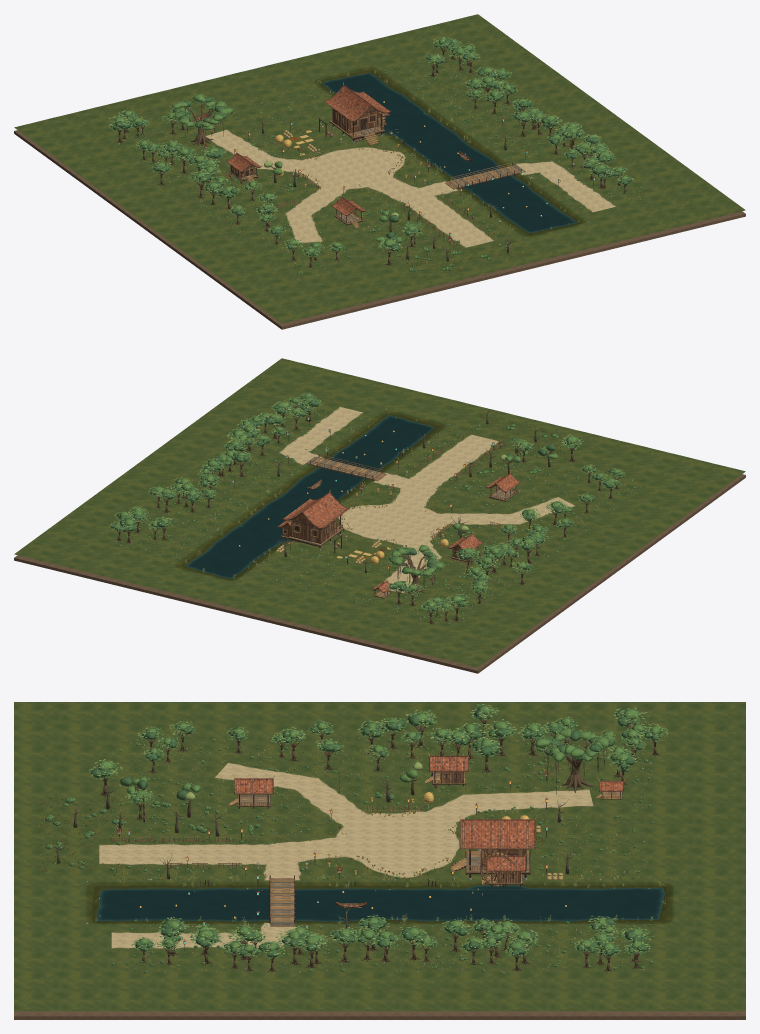
File: moonlit-mill.glb
3 views of the same model, one above another, from view 1: azimuth 30°, elevation 25°; view 2: azimuth 150°, elevation 25°; view 3: azimuth 270°, elevation 25° (orthographic). The views are drawn at different scales.
Visible parts, largest first — view 1: Ground - dry meadow | meadow_dry, Tracks - worn earth | path, Water surface | water, Soil foundation | earth, Organic tree foliage | leaf, Organic tree foliage | leaf2, Fine outer tree leaves | leaf3, Fine outer tree leaves | leaf2, Feathered road shoulders | path_edge, Fine outer tree leaves | leaf4, Fine outer tree leaves | leaf, Roof / overlapping clay tiles | roof (+6 smaller); view 2: Ground - dry meadow | meadow_dry, Tracks - worn earth | path, Water surface | water, Soil foundation | earth, Organic tree foliage | leaf, Organic tree foliage | leaf2, Fine outer tree leaves | leaf3, Fine outer tree leaves | leaf2, Fine outer tree leaves | leaf4, Feathered road shoulders | path_edge, Fine outer tree leaves | leaf, Roof / overlapping clay tiles | roof (+7 smaller); view 3: Ground - dry meadow | meadow_dry, Water surface | water, Tracks - worn earth | path, Organic tree foliage | leaf, Soil foundation | earth, Organic tree foliage | leaf2, Fine outer tree leaves | leaf3, Fine outer tree leaves | leaf2, Fine outer tree leaves | leaf4, Feathered road shoulders | path_edge, Roof / overlapping clay tiles | roof, Fine outer tree leaves | leaf (+24 smaller).
Part boxes in pixels (x1=…): Ground - dry meadow | meadow_dry: x1=14, y1=14, x2=745, y2=323; Tracks - worn earth | path: x1=206, y1=130, x2=613, y2=246; Water surface | water: x1=321, y1=72, x2=577, y2=232; Soil foundation | earth: x1=14, y1=130, x2=745, y2=329; Organic tree foliage | leaf: x1=111, y1=38, x2=631, y2=255; Organic tree foliage | leaf2: x1=114, y1=38, x2=628, y2=253; Fine outer tree leaves | leaf3: x1=108, y1=37, x2=633, y2=256; Fine outer tree leaves | leaf2: x1=109, y1=36, x2=633, y2=254; Feathered road shoulders | path_edge: x1=207, y1=129, x2=616, y2=247; Fine outer tree leaves | leaf4: x1=110, y1=37, x2=632, y2=256; Fine outer tree leaves | leaf: x1=109, y1=40, x2=632, y2=259; Roof / overlapping clay tiles | roof: x1=198, y1=86, x2=448, y2=238; Ground - dry meadow | meadow_dry: x1=14, y1=358, x2=745, y2=667; Tracks - worn earth | path: x1=282, y1=407, x2=573, y2=592; Water surface | water: x1=186, y1=415, x2=433, y2=578; Soil foundation | earth: x1=14, y1=474, x2=745, y2=673; Organic tree foliage | leaf: x1=111, y1=393, x2=622, y2=610; Organic tree foliage | leaf2: x1=115, y1=393, x2=620, y2=608; Fine outer tree leaves | leaf3: x1=111, y1=392, x2=624, y2=610; Fine outer tree leaves | leaf2: x1=110, y1=392, x2=624, y2=612; Fine outer tree leaves | leaf4: x1=109, y1=392, x2=624, y2=611; Feathered road shoulders | path_edge: x1=279, y1=407, x2=574, y2=592; Fine outer tree leaves | leaf: x1=111, y1=395, x2=624, y2=612; Roof / overlapping clay tiles | roof: x1=278, y1=442, x2=519, y2=591; Ground - dry meadow | meadow_dry: x1=14, y1=702, x2=745, y2=1011; Water surface | water: x1=96, y1=885, x2=664, y2=921; Tracks - worn earth | path: x1=99, y1=764, x2=592, y2=946; Organic tree foliage | leaf: x1=91, y1=705, x2=661, y2=957; Soil foundation | earth: x1=14, y1=1011, x2=745, y2=1019; Organic tree foliage | leaf2: x1=98, y1=705, x2=660, y2=952; Fine outer tree leaves | leaf3: x1=89, y1=704, x2=667, y2=955; Fine outer tree leaves | leaf2: x1=88, y1=703, x2=668, y2=958; Fine outer tree leaves | leaf4: x1=90, y1=704, x2=668, y2=957; Feathered road shoulders | path_edge: x1=99, y1=763, x2=593, y2=948; Roof / overlapping clay tiles | roof: x1=118, y1=756, x2=623, y2=870; Fine outer tree leaves | leaf: x1=88, y1=709, x2=666, y2=958.
Bounding box in the file's own units: 180 × 17.24 × 180.
Materials: 47 (47 with a texture image).
